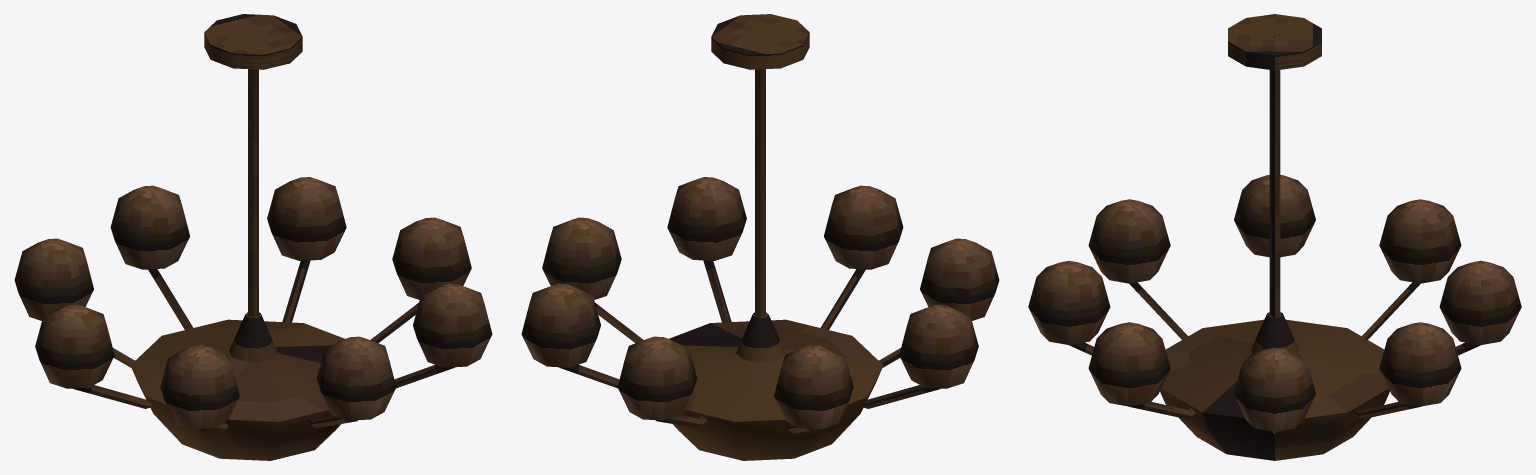
Rendered from chandelier.glb.
3 views of the same model, side by side, from view 1: azimuth 30°, elevation 25°; view 2: azimuth 150°, elevation 25°; view 3: azimuth 270°, elevation 25° (orthographic).
Parts seen in each view (by area): view 1: chandelier_lamp, chandelier; view 2: chandelier_lamp, chandelier; view 3: chandelier_lamp, chandelier.
Boxes of the visible parts, left/top/right/bottom form: chandelier_lamp: left=14, top=177, right=492, bottom=429; chandelier: left=73, top=14, right=454, bottom=460; chandelier_lamp: left=521, top=177, right=999, bottom=429; chandelier: left=559, top=14, right=940, bottom=460; chandelier_lamp: left=1028, top=175, right=1521, bottom=431; chandelier: left=1069, top=14, right=1480, bottom=460.
Size of the model in its own units: 1.2 by 1.1 by 1.2.
